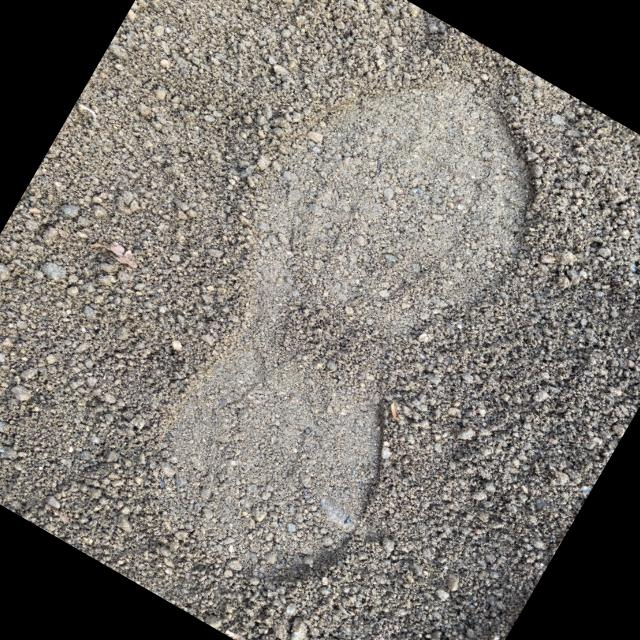human_foot_print: (0, 0, 639, 639), (139, 109, 553, 584)
